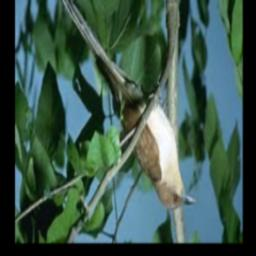Cuckoo: (50, 0, 200, 214)
